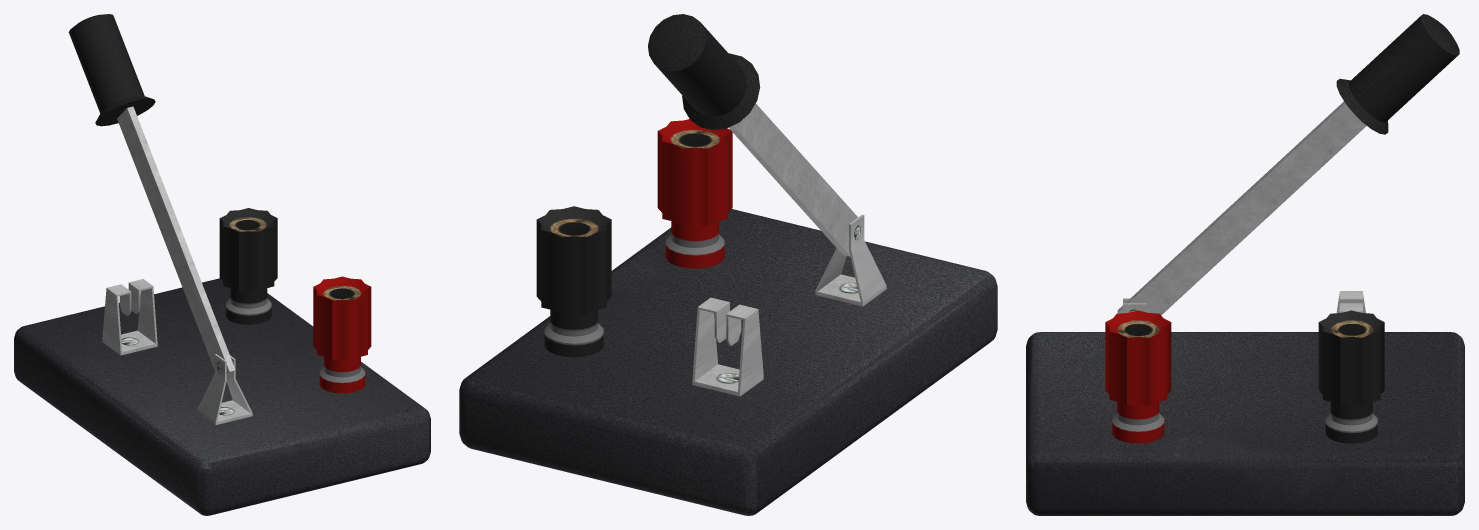
The model's file is switch.FBX.
3 views of the same model, side by side, from view 1: azimuth 30°, elevation 25°; view 2: azimuth 150°, elevation 25°; view 3: azimuth 270°, elevation 25° (orthographic). The views are drawn at different scales.
Parts seen in each view (by area): view 1: polySurface4, polySurface5; view 2: polySurface4, polySurface5; view 3: polySurface4, polySurface5.
Part boxes in pixels (<box>): polySurface4: <box>14,208,430,515</box>; polySurface5: <box>68,14,235,379</box>; polySurface4: <box>459,119,997,515</box>; polySurface5: <box>648,14,857,256</box>; polySurface4: <box>1026,291,1464,515</box>; polySurface5: <box>1117,14,1459,315</box>.
Bounding box in the file's own units: 65.18 × 96.78 × 93.29.
